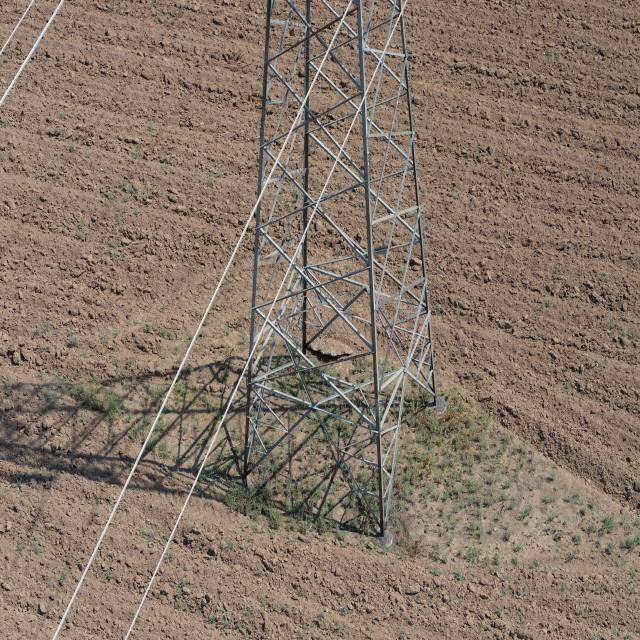direk: (207, 0, 468, 551)
